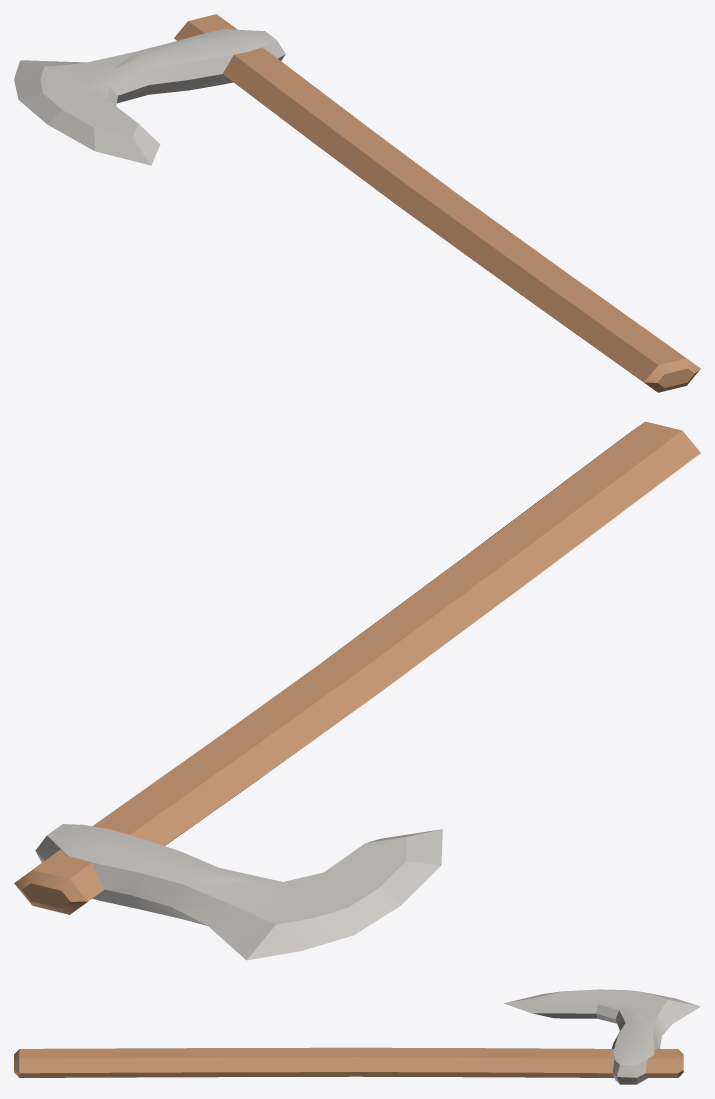
The model's file is axe.fbx.
3 views of the same model, one above another, from view 1: azimuth 30°, elevation 25°; view 2: azimuth 150°, elevation 25°; view 3: azimuth 270°, elevation 25° (orthographic). The views are drawn at different scales.
Parts seen in each view (by area): view 1: axe; view 2: axe; view 3: axe.
Boxes of the visible parts, <box> form: axe: <box>14,14,700,392</box>; axe: <box>14,421,700,960</box>; axe: <box>14,989,700,1084</box>.
Size of the model in its own units: 0.1333 by 0.0183 by 0.4462.
